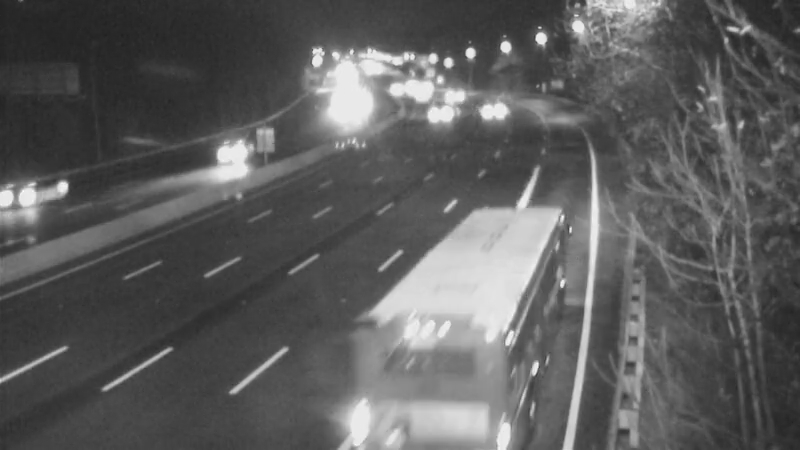vehicle: (386, 286, 496, 396), (1, 156, 80, 236), (371, 65, 421, 115), (391, 70, 441, 120), (422, 71, 472, 121), (464, 85, 514, 135), (415, 85, 465, 135), (206, 124, 256, 174)
